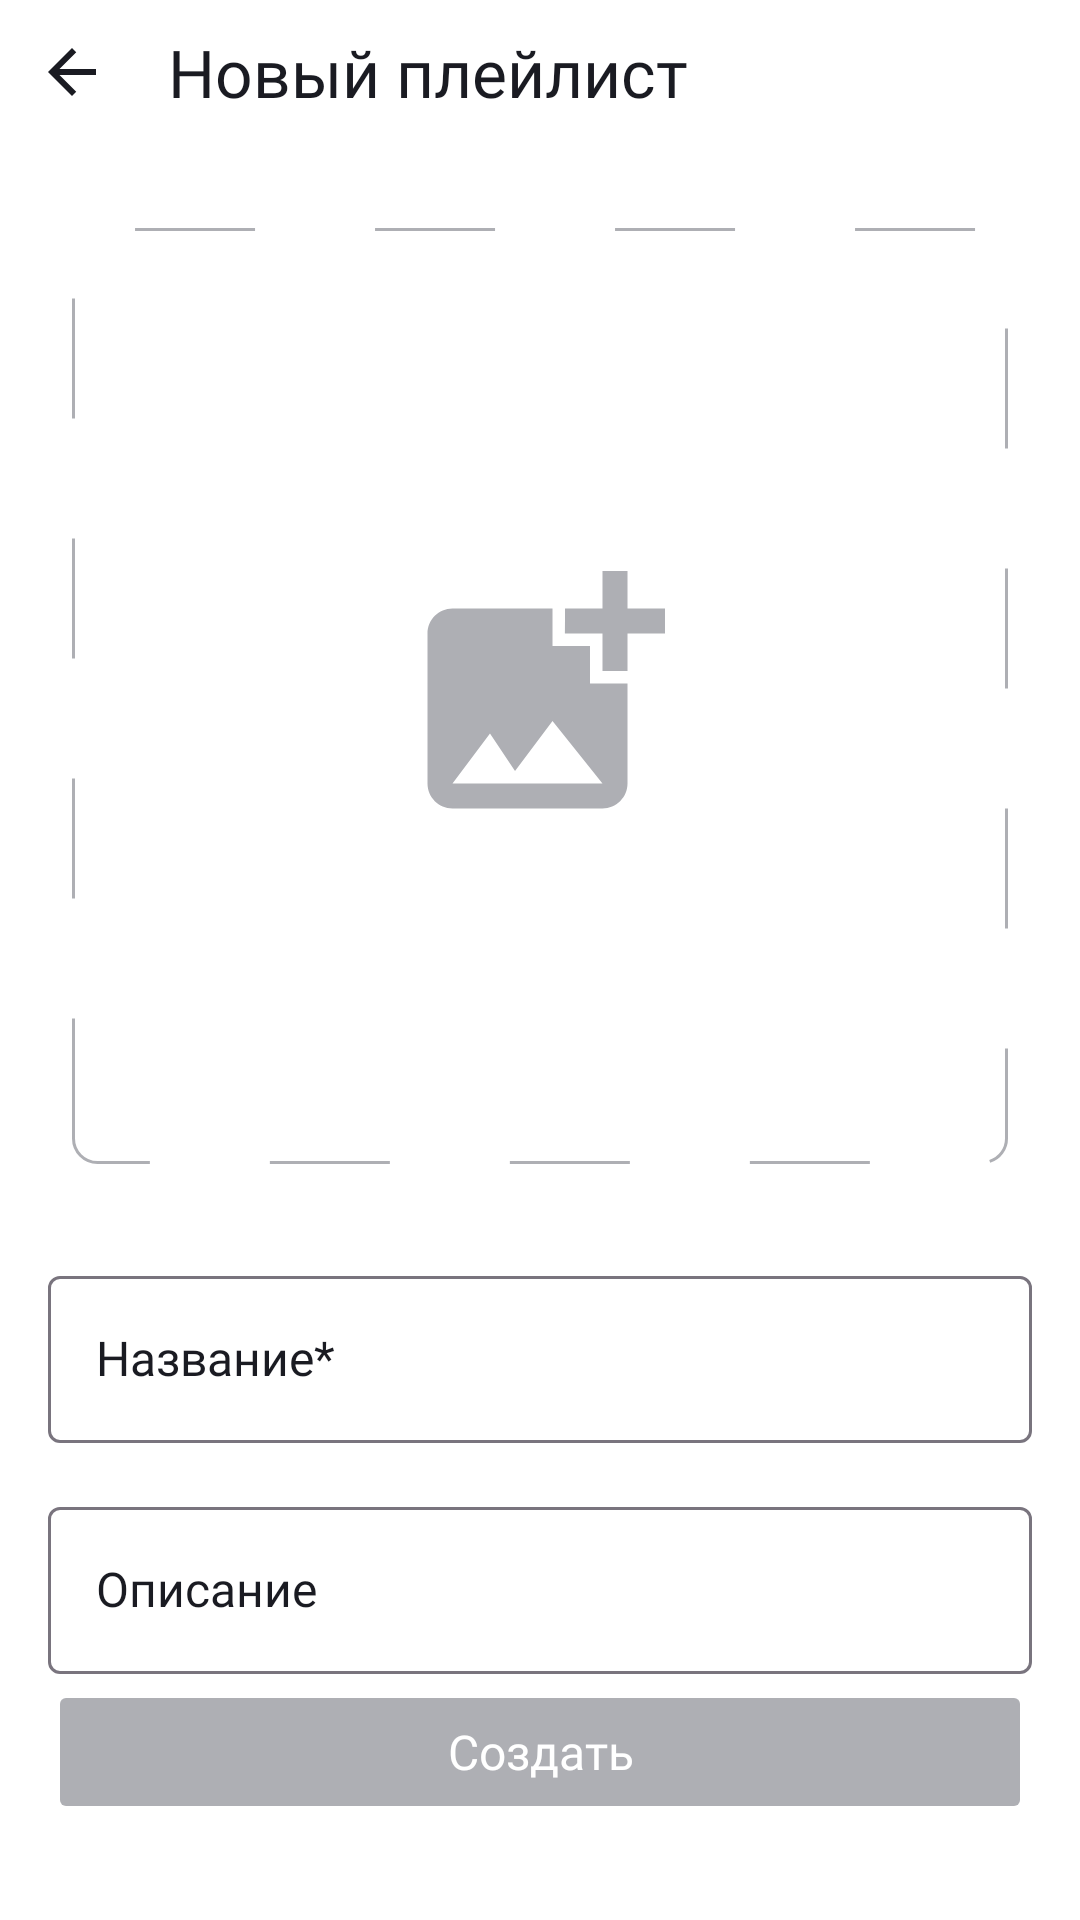

Icon click points for this 1080*1920 phone screenshot, format (x=x, y=y):
arrow back: (x=72, y=72)
